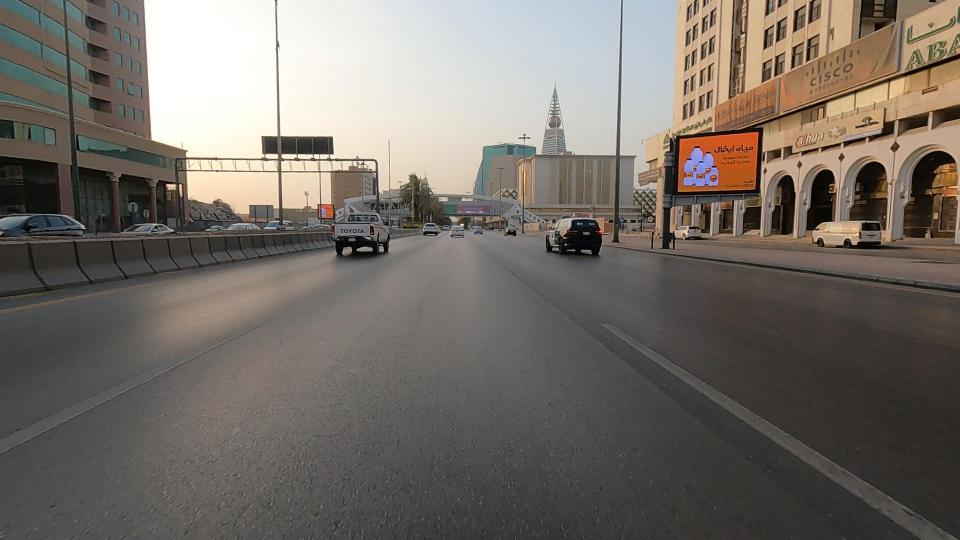BAD_BILLBOARD: (713, 25, 956, 110), (674, 71, 814, 148)
